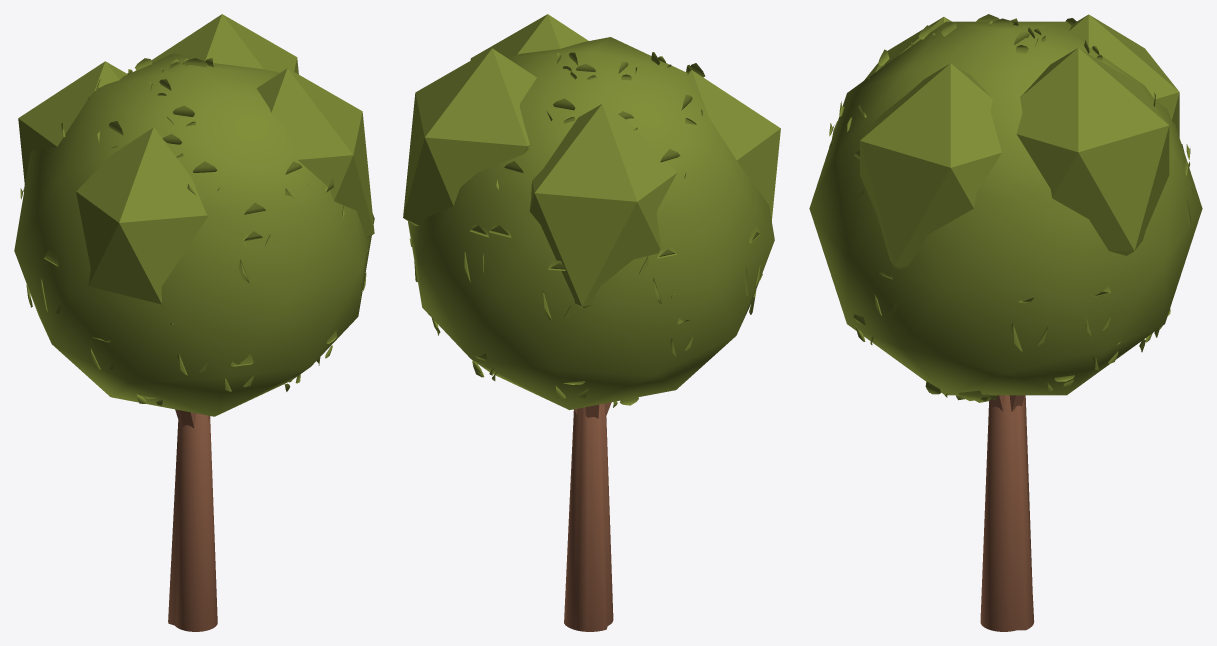
The model's file is Tree.glb.
3 views of the same model, side by side, from view 1: azimuth 30°, elevation 25°; view 2: azimuth 150°, elevation 25°; view 3: azimuth 270°, elevation 25° (orthographic). The views are drawn at different scales.
Parts seen in each view (by area): view 1: Tree 1, Tree_AutumnThinning; view 2: Tree 1, Tree_AutumnThinning; view 3: Tree 1, Tree_AutumnThinning.
Boxes of the visible parts, x1,y1,x2,y2 form: Tree 1: (14, 53, 374, 631); Tree_AutumnThinning: (18, 14, 374, 325); Tree 1: (408, 37, 774, 631); Tree_AutumnThinning: (403, 14, 780, 308); Tree 1: (809, 14, 1202, 631); Tree_AutumnThinning: (860, 14, 1179, 268).
Size of the model in its own units: 1.36 by 2.43 by 1.43.
